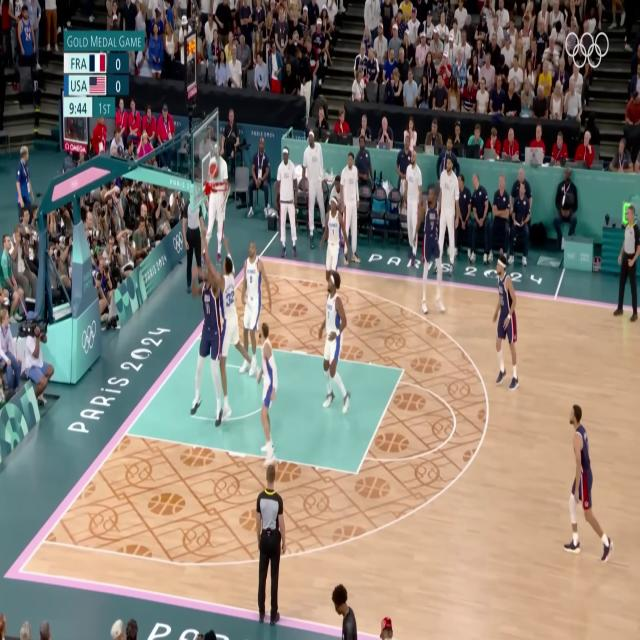player: (562, 409, 621, 572), (318, 272, 354, 423), (213, 248, 247, 404), (192, 258, 220, 432), (488, 254, 520, 392), (415, 186, 446, 318), (254, 308, 278, 466), (239, 236, 263, 382), (322, 197, 348, 307)
